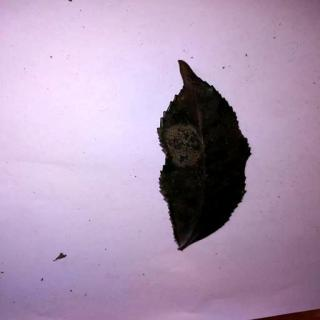Anthracnose: (159, 59, 253, 253)
